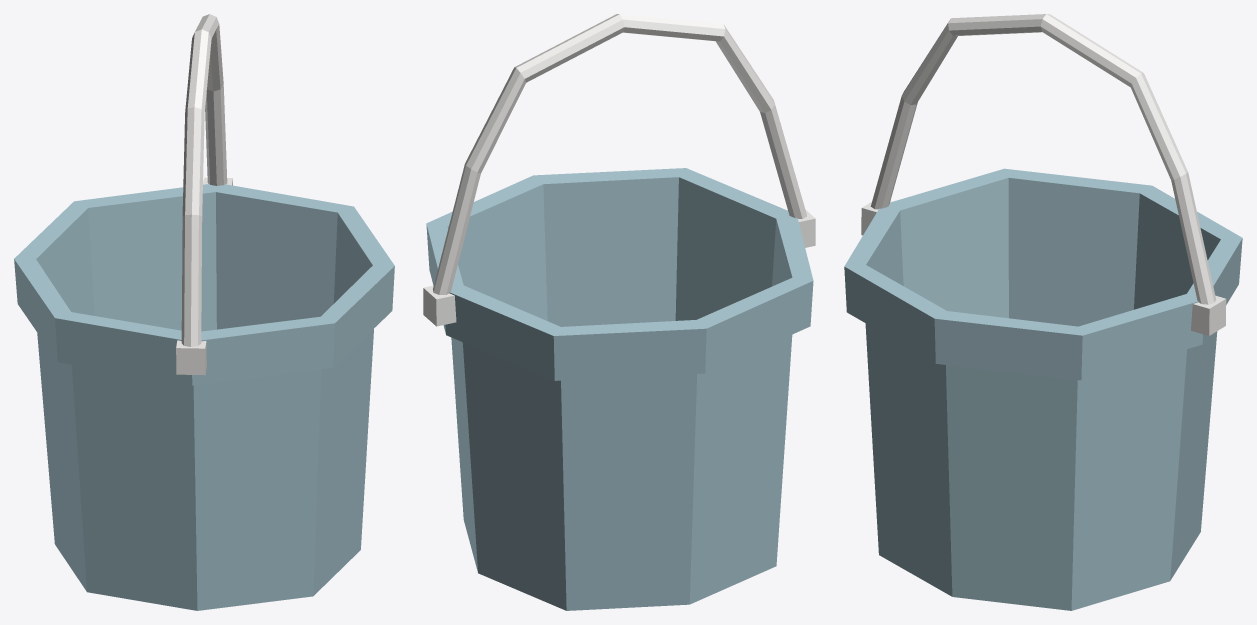
Rendered from Bucket_3.fbx.
3 views of the same model, side by side, from view 1: azimuth 30°, elevation 25°; view 2: azimuth 150°, elevation 25°; view 3: azimuth 270°, elevation 25° (orthographic). The views are drawn at different scales.
Visible parts, largest first — view 1: Bucket_3; view 2: Bucket_3; view 3: Bucket_3.
Boxes of the visible parts, x1,y1,x2,y2 form: Bucket_3: [14, 14, 394, 610]; Bucket_3: [423, 14, 815, 610]; Bucket_3: [844, 14, 1242, 610].
Size of the model in its own units: 19.85 by 19.85 by 29.14.
